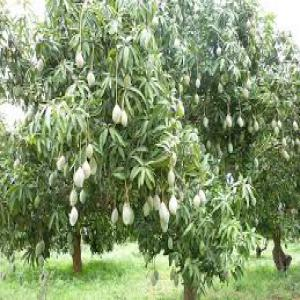Tree: (1, 2, 299, 296)
